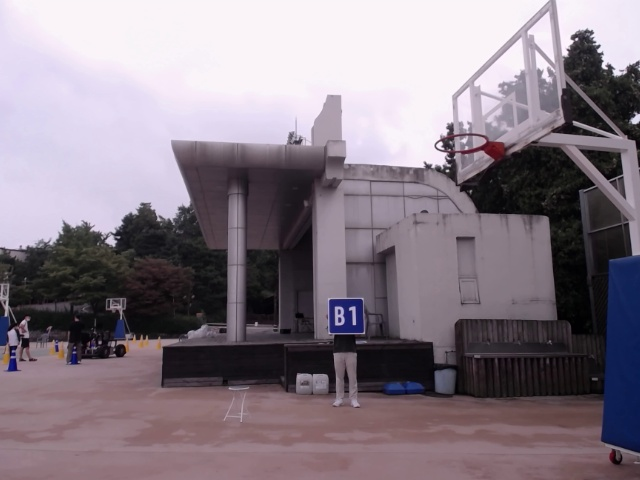delivery_b1: (328, 298, 365, 334)
